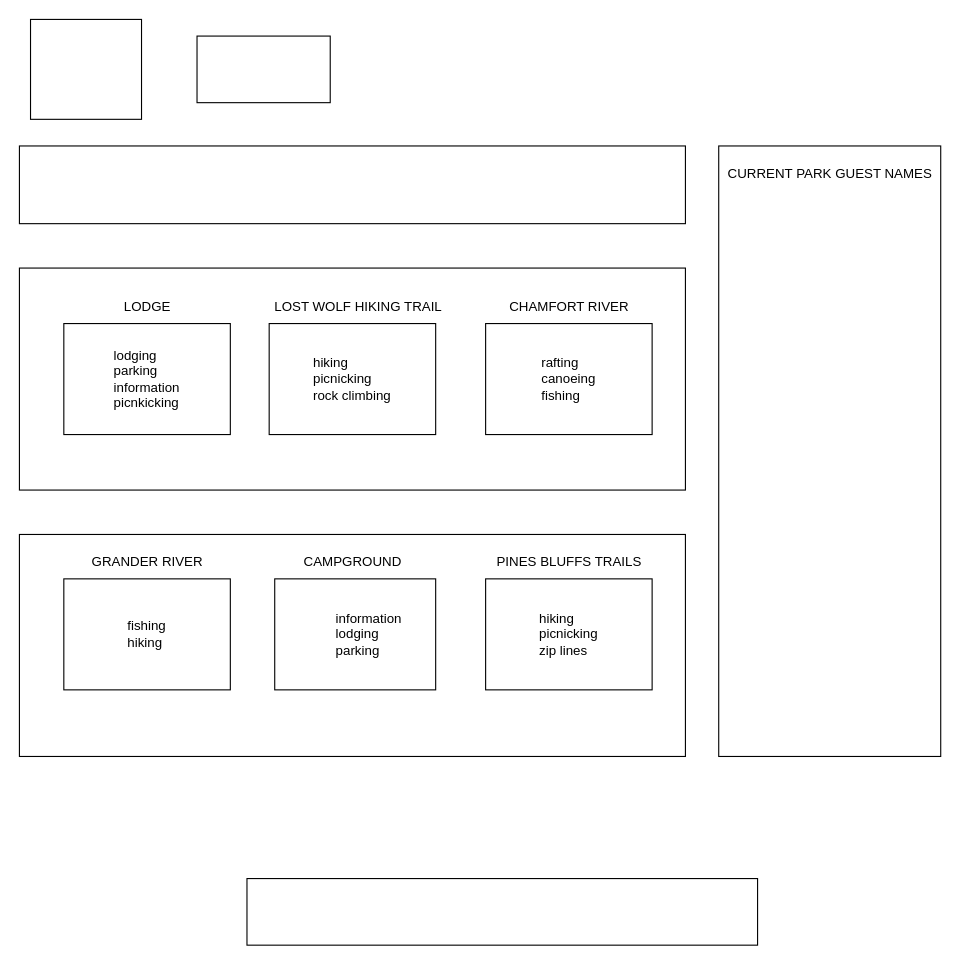
Some shapes in this 966 by 965 pixel diagram are drawn without their labels. Each missing label, with the centre of its shape:
LIST OF SERVICES:: [351,184]
Logo: [85,68]
Main phone number email address street address: [502,911]
Park Name: [263,69]
